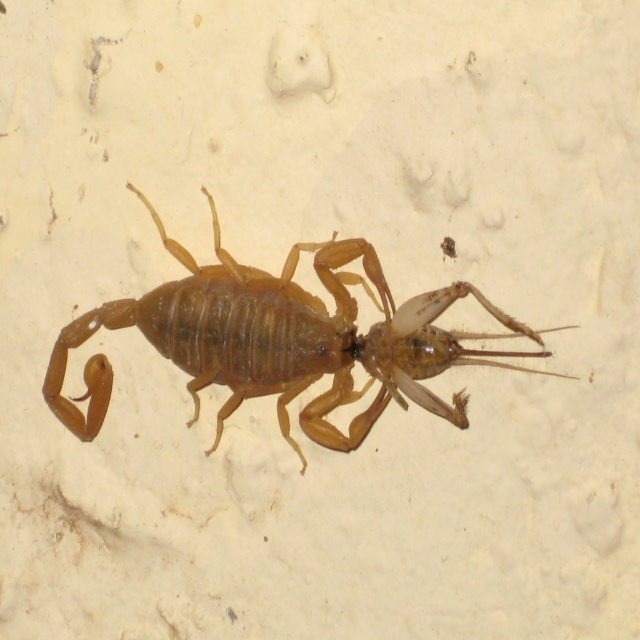Scorpion: (42, 179, 581, 476)
